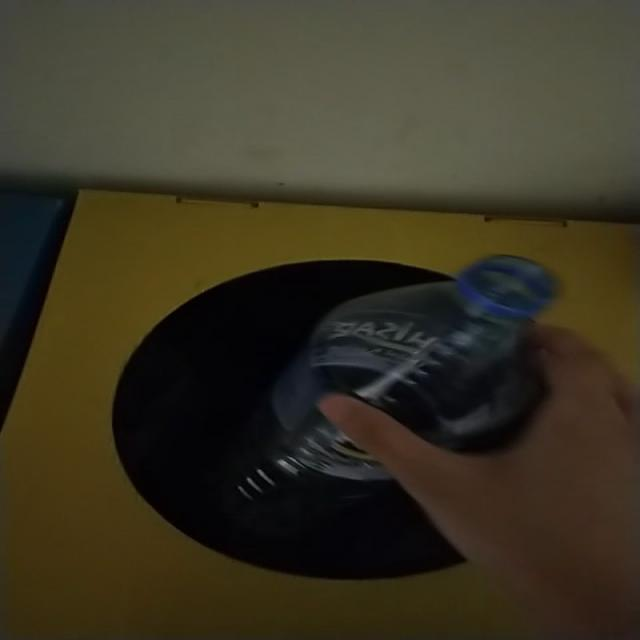Plastic: (233, 256, 557, 508)
